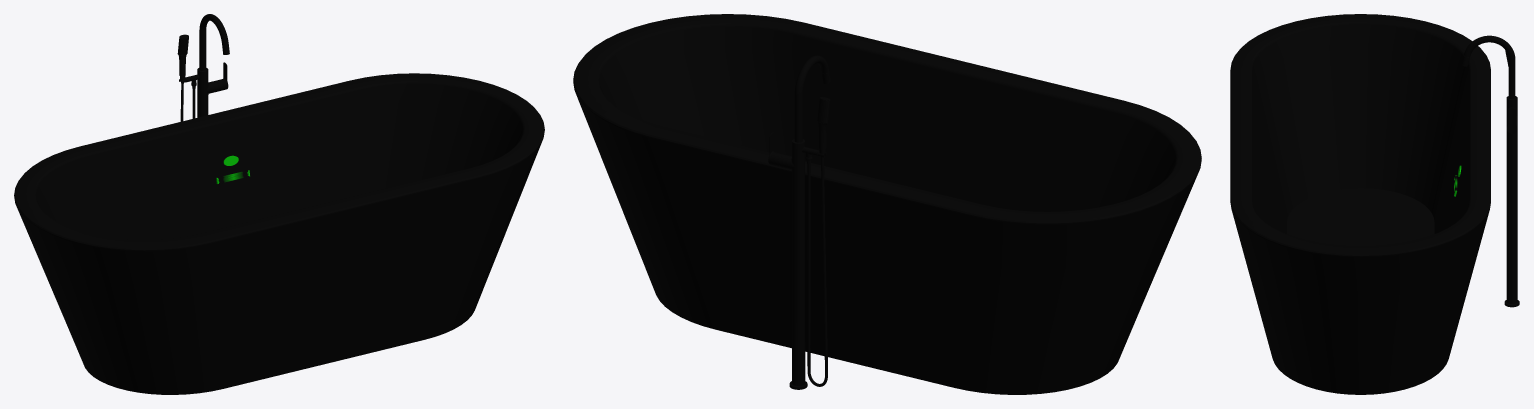
Rendered from Bathtub_012.gltf.
The picture shows the model from 3 angles, left to right: view 1: azimuth 30°, elevation 25°; view 2: azimuth 150°, elevation 25°; view 3: azimuth 270°, elevation 25°; orthographic projection. The views are drawn at different scales.
Visible parts, largest first — view 1: Bathtub_013; view 2: Bathtub_013; view 3: Bathtub_013.
Boxes of the visible parts, x1,y1,x2,y2 form: Bathtub_013: [14, 14, 544, 394]; Bathtub_013: [573, 14, 1201, 394]; Bathtub_013: [1230, 14, 1519, 394].
Bounding box in the file's own units: 1.29 × 0.6758 × 0.6558.
Materials: 1 (1 with a texture image).
